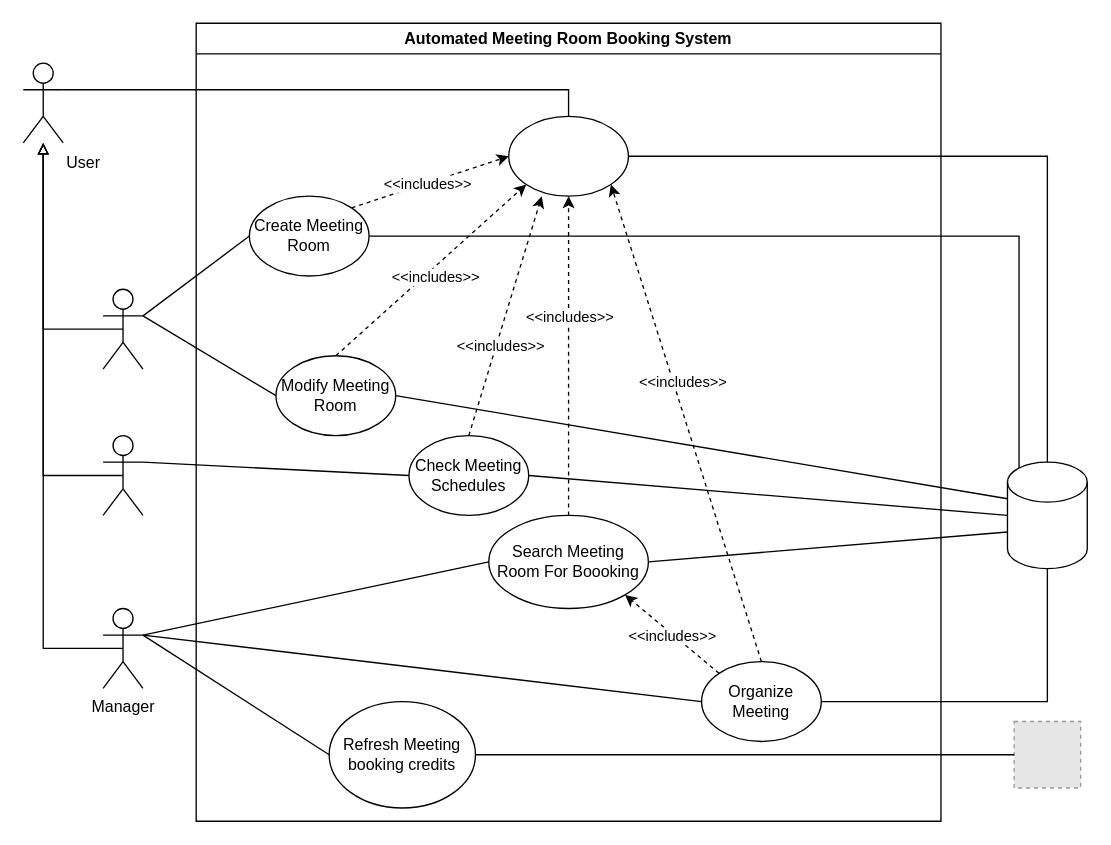
The diagram is 1111 pixels wide and 845 high, and some of its shapes have lost their labels. Grey dashed boxes stand in for pictures. The shapes that lost their labels are listed below. From the top down, each one's box as (x1, y1, x2, y2) in pixels, then its label:
(507, 115, 628, 196): Login
(102, 288, 143, 369): Admin
(102, 434, 143, 515): Member
(1006, 461, 1087, 569): MySQL
